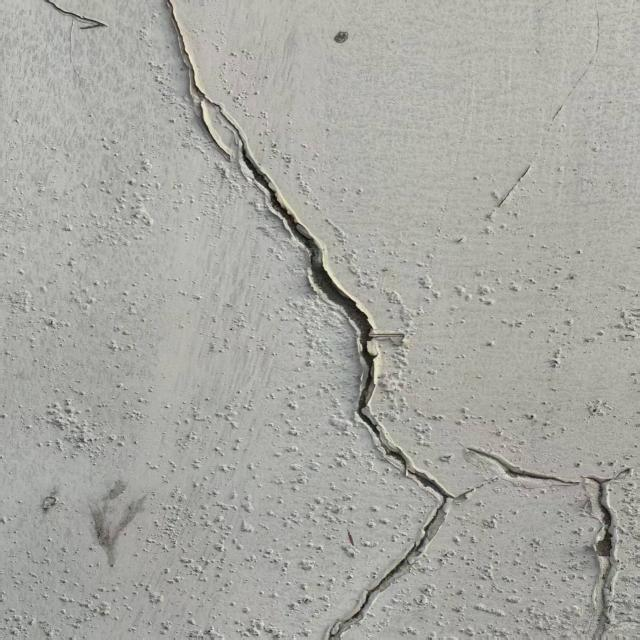crack: (149, 6, 484, 637), (458, 436, 637, 633)
